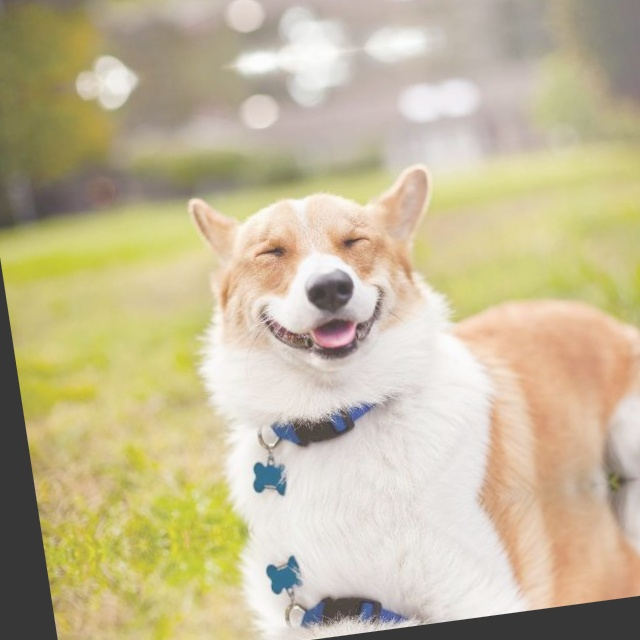dog: (157, 129, 474, 439), (228, 595, 506, 640)
